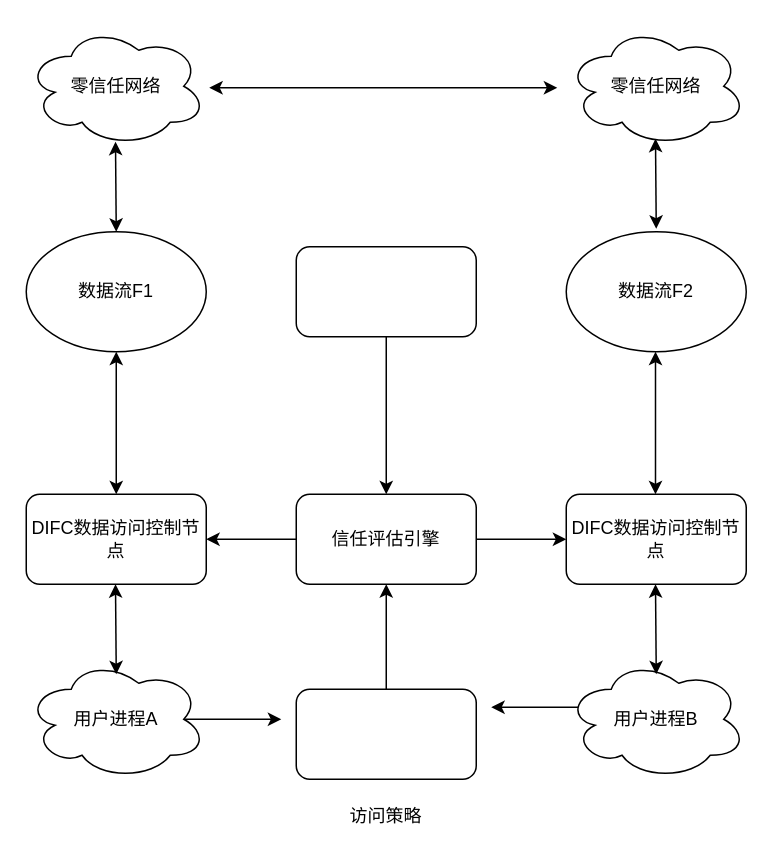
Image size: 773x866. Some labels were removed from this diagram. Each missing label, with the centre of its shape:
PBAC基于策略的访问控制: pixel 385 733
安全分析引擎: pixel 385 291
